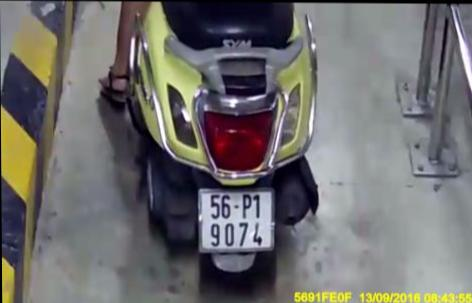LP: (197, 185, 275, 252)
